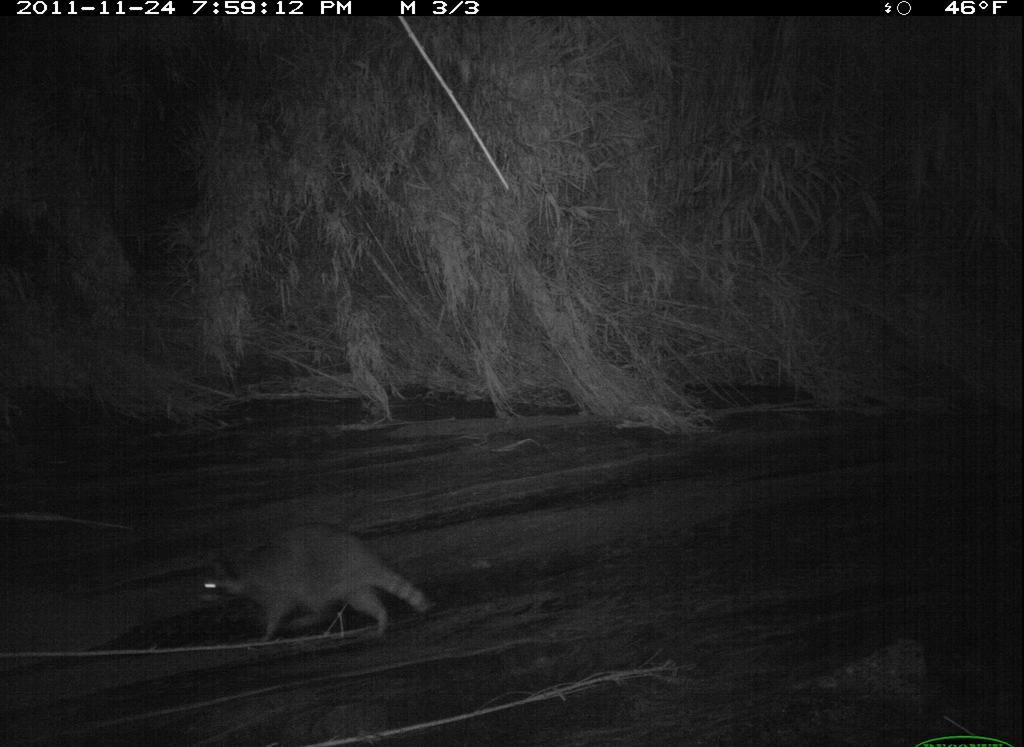raccoon: (187, 507, 442, 656)
